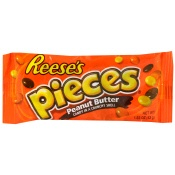grozi_31: (2, 51, 173, 124)
